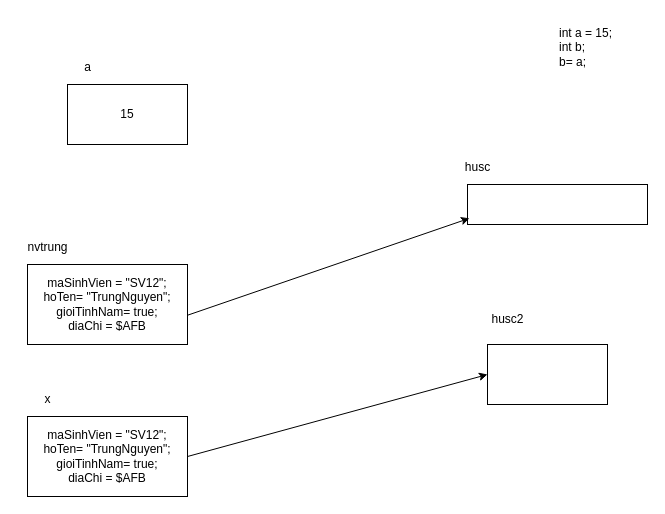
Some shapes in this 665 by 514 pixel diagram are drawn without their labels. The centre of each missing label's shape, as x and y in pixels:
soNha = "77" tenDuong = "Nguyen Hue St": point (557, 204)
soNha = "77" tenDuong = "Nguyen Hue St.": point (547, 374)
